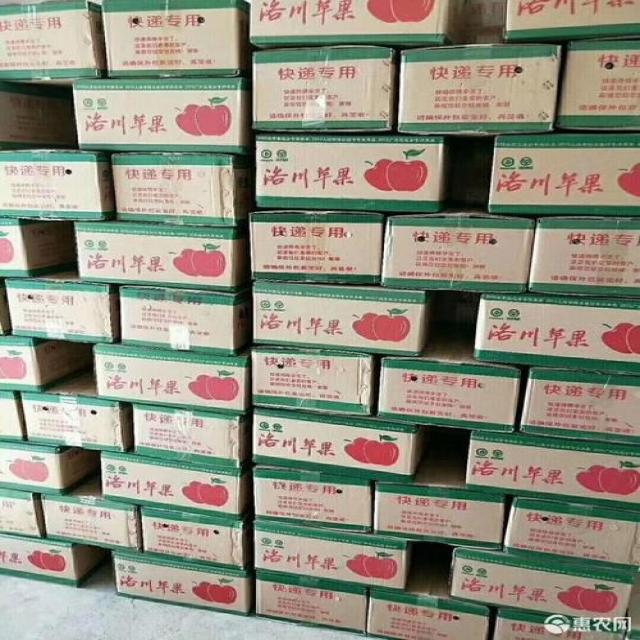box: (448, 545, 635, 626), (255, 134, 443, 214), (397, 42, 561, 133), (374, 442, 507, 552), (379, 327, 516, 433), (465, 428, 640, 510), (70, 76, 252, 153), (252, 280, 433, 357), (475, 294, 640, 377), (252, 409, 430, 484), (486, 130, 640, 216), (74, 219, 248, 293), (381, 212, 534, 294), (251, 47, 394, 131), (102, 0, 253, 78), (93, 343, 251, 416), (253, 518, 406, 590), (503, 493, 640, 573), (109, 154, 256, 227), (248, 0, 471, 48), (100, 451, 253, 518), (18, 364, 132, 452), (518, 366, 640, 447), (367, 560, 490, 640), (248, 212, 380, 284), (119, 284, 251, 355), (113, 551, 255, 615), (3, 266, 119, 344), (527, 217, 640, 297), (251, 345, 374, 416), (0, 0, 108, 79), (253, 466, 374, 534), (0, 151, 116, 221), (131, 402, 252, 468), (557, 37, 640, 130), (141, 505, 253, 571), (252, 570, 367, 634), (42, 494, 141, 554), (0, 532, 109, 586), (504, 0, 640, 41), (1, 440, 100, 496), (1, 82, 78, 152), (1, 336, 93, 391), (493, 606, 625, 640), (0, 219, 77, 276), (0, 487, 46, 539), (0, 391, 24, 442)
